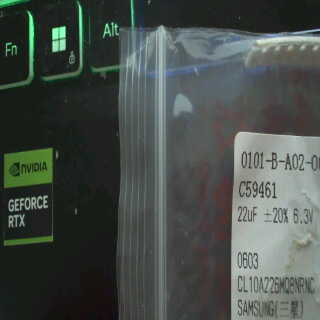22uF: (234, 204, 262, 226)
